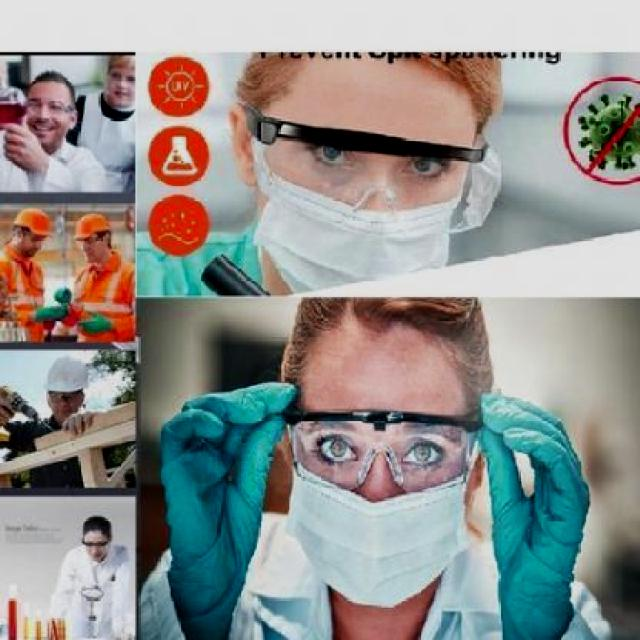face_mask: (262, 120, 466, 302), (294, 419, 471, 606)
face_nomask: (26, 98, 66, 138), (47, 389, 79, 417), (110, 72, 135, 103), (82, 535, 109, 559), (76, 238, 98, 260), (26, 234, 46, 255)
glasses: (241, 100, 499, 240), (278, 405, 477, 501), (24, 98, 70, 118)
hand_glove: (150, 374, 293, 634), (473, 386, 595, 623), (78, 309, 110, 336), (35, 303, 70, 323), (50, 286, 73, 305)
hand_noglove: (3, 116, 32, 164), (61, 406, 97, 442)
head_helmet: (44, 357, 93, 394), (73, 210, 110, 241), (12, 209, 52, 236)
head_nohelmet: (28, 67, 78, 98), (80, 512, 112, 534)
person: (49, 513, 134, 638), (64, 215, 136, 338), (0, 205, 66, 338)
